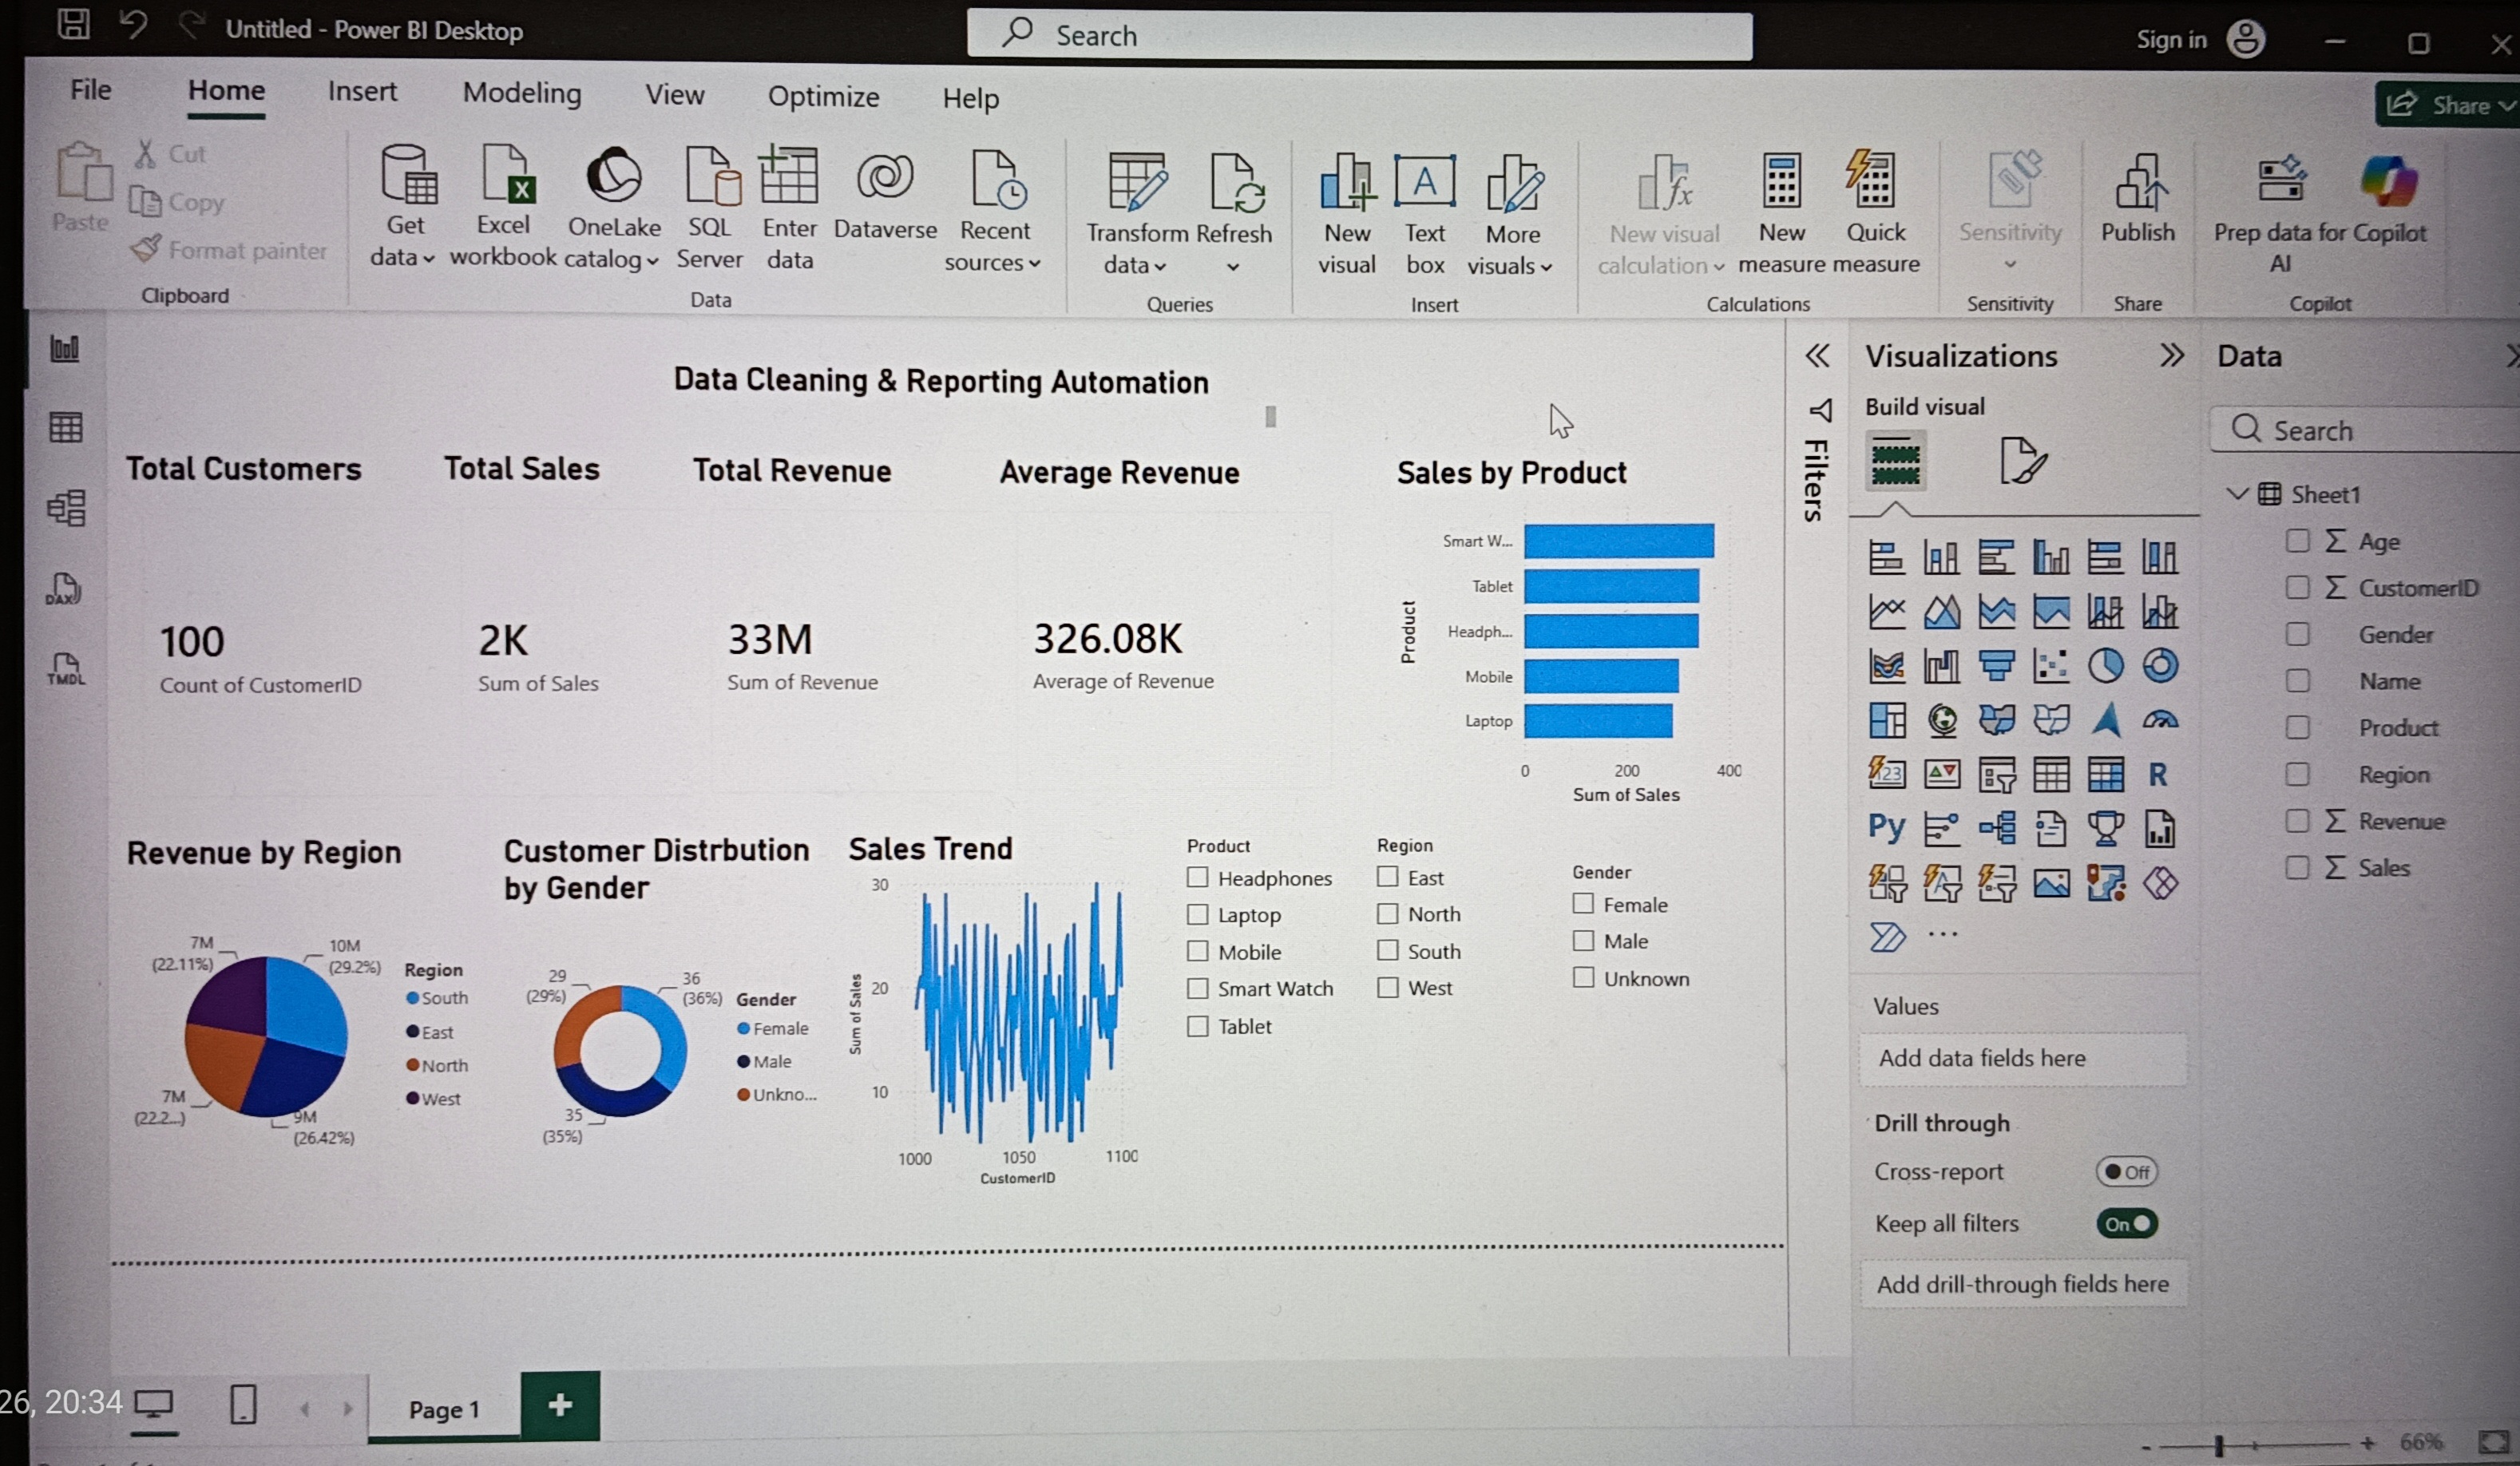

The dashboard page shown, as its layout file describes it:
{"tool":"powerbi","page":{"name":"Page 1","canvas":[1280,720],"ordinal":0},"visuals":[{"type":"cardVisual","title":"Total Customers","fields":{"Data":["CountNonNull(Sheet1.CustomerID)"]},"box":[9.4,105.8,279.7,279.7],"z":0},{"type":"cardVisual","title":"Total Sales","fields":{"Data":["Sum(Sheet1.Sales)"]},"box":[245.7,103.9,279.7,281.6],"z":1000},{"type":"cardVisual","title":"Total Revenue","fields":{"Data":["Sum(Sheet1.Revenue)"]},"box":[430.9,103.9,279.7,279.7],"z":2000},{"type":"cardVisual","title":"Average Revenue","fields":{"Data":["Avg(Sheet1.Revenue)"]},"box":[664.7,104.5,280.1,278.6],"z":3000},{"type":"clusteredBarChart","title":"Sales by Product","fields":{"Category":["Sheet1.Product"],"Y":["Sum(Sheet1.Sales)"]},"box":[973.6,104.5,278.6,278.6],"z":4000},{"type":"pieChart","title":"Revenue by Region","fields":{"Y":["Sum(Sheet1.Revenue)"],"Category":["Sheet1.Region"]},"box":[9,396,280,280],"z":5000},{"type":"donutChart","title":" Customer Distrbution by Gender","fields":{"Category":["Sheet1.Gender"],"Y":["CountNonNull(Sheet1.CustomerID)"]},"box":[289.1,396.9,258.9,279.7],"z":6000},{"type":"lineChart","title":"Sales Trend","fields":{"Category":["Sheet1.CustomerID"],"Y":["Sum(Sheet1.Sales)"]},"box":[548,396.9,232.4,279.7],"z":7000},{"type":"slicer","fields":{"Values":["Sheet1.Product"]},"box":[801.3,396.9,279.7,279.7],"z":8000},{"type":"slicer","fields":{"Values":["Sheet1.Region"]},"box":[948.7,396.9,189,279.7],"z":9000},{"type":"slicer","fields":{"Values":["Sheet1.Gender"]},"box":[1101.7,417.6,177.6,209.8],"z":9001},{"type":"textbox","title":"Data Cleaning & Reporting Automation ","box":[417.9,34.8,470.9,54.5],"z":9002}]}

Visuals, with their boxes on the page's 1280x720 design canvas (x1, y1, x2, y2). These are canvas units, not pixel positions in the 2520x1466 screenshot, which may show the page scaled, cropped or inside an application window:
"Total Customers" cardVisual: crop(9, 106, 289, 386)
"Total Sales" cardVisual: crop(246, 104, 525, 386)
"Total Revenue" cardVisual: crop(431, 104, 711, 384)
"Average Revenue" cardVisual: crop(665, 104, 945, 383)
"Sales by Product" clusteredBarChart: crop(974, 104, 1252, 383)
"Revenue by Region" pieChart: crop(9, 396, 289, 676)
" Customer Distrbution by Gender" donutChart: crop(289, 397, 548, 677)
"Sales Trend" lineChart: crop(548, 397, 780, 677)
slicer - Sheet1.Product: crop(801, 397, 1081, 677)
slicer - Sheet1.Region: crop(949, 397, 1138, 677)
slicer - Sheet1.Gender: crop(1102, 418, 1279, 627)
"Data Cleaning & Reporting Automation " textbox: crop(418, 35, 889, 89)
